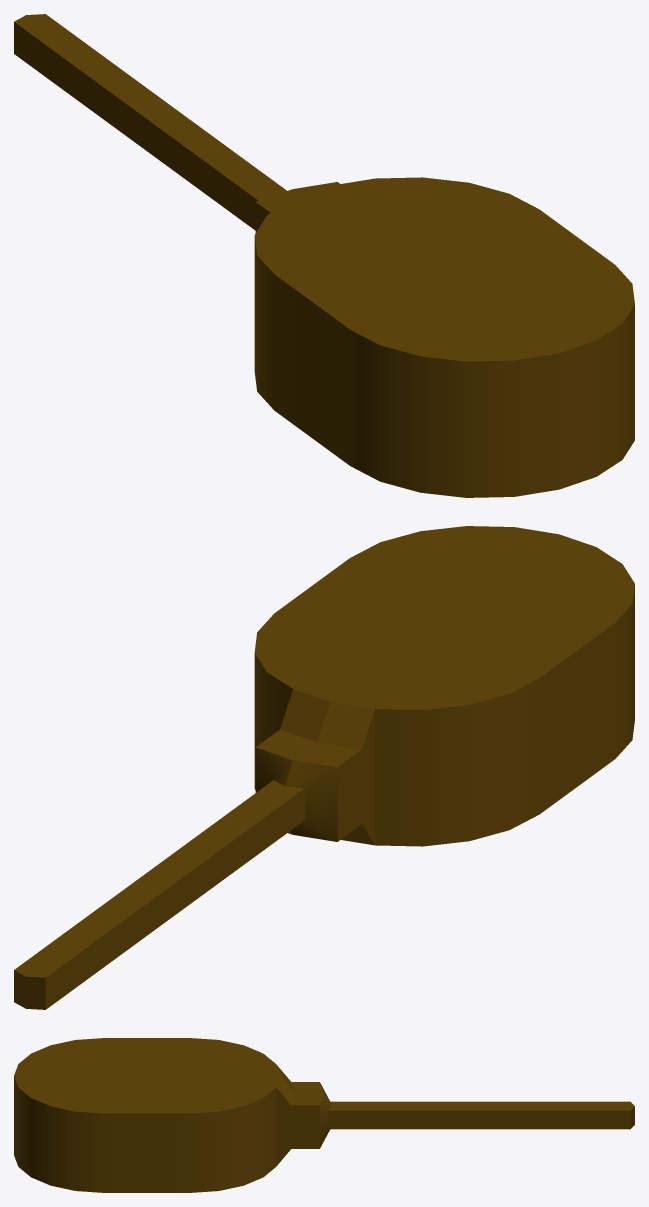
The model's file is weapon.fbx.
The picture shows the model from 3 angles, top to bottom: view 1: azimuth 30°, elevation 25°; view 2: azimuth 150°, elevation 25°; view 3: azimuth 270°, elevation 25°; orthographic projection. The views are drawn at different scales.
Visible parts, largest first — view 1: pCube1; view 2: pCube1; view 3: pCube1.
Part boxes in pixels (x1,y1,x2,y2): pCube1: (14, 14, 634, 497); pCube1: (14, 526, 634, 1009); pCube1: (14, 1038, 634, 1192).
Bounding box in the file's own units: 2.04 × 1 × 7.09.
